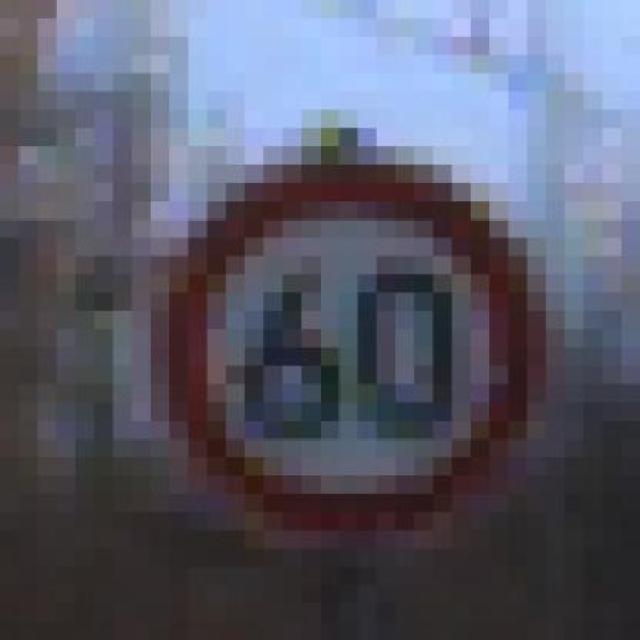forb_speed_over_60: (166, 161, 539, 530)
